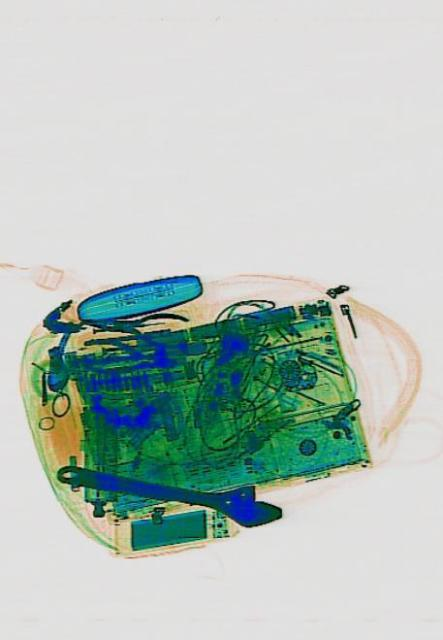Pliers: (77, 300, 188, 350), (80, 332, 174, 380)
Wrench: (52, 448, 283, 532)
